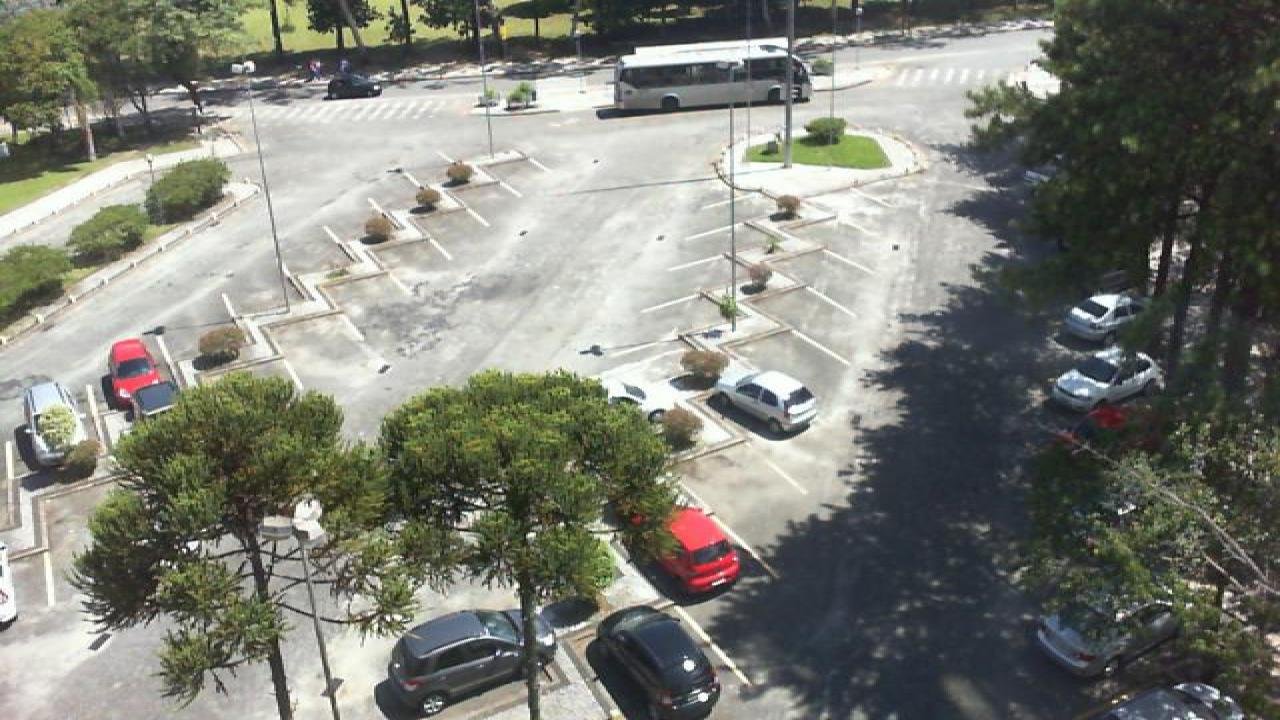Car: (378, 605, 562, 703), (590, 605, 722, 720), (1036, 598, 1182, 680), (624, 505, 742, 599), (712, 369, 820, 433), (1052, 350, 1158, 413), (1078, 683, 1244, 720), (596, 366, 696, 426), (16, 377, 76, 468), (106, 338, 168, 406), (1058, 291, 1144, 340), (126, 380, 180, 423), (324, 72, 388, 100), (0, 540, 18, 628)
